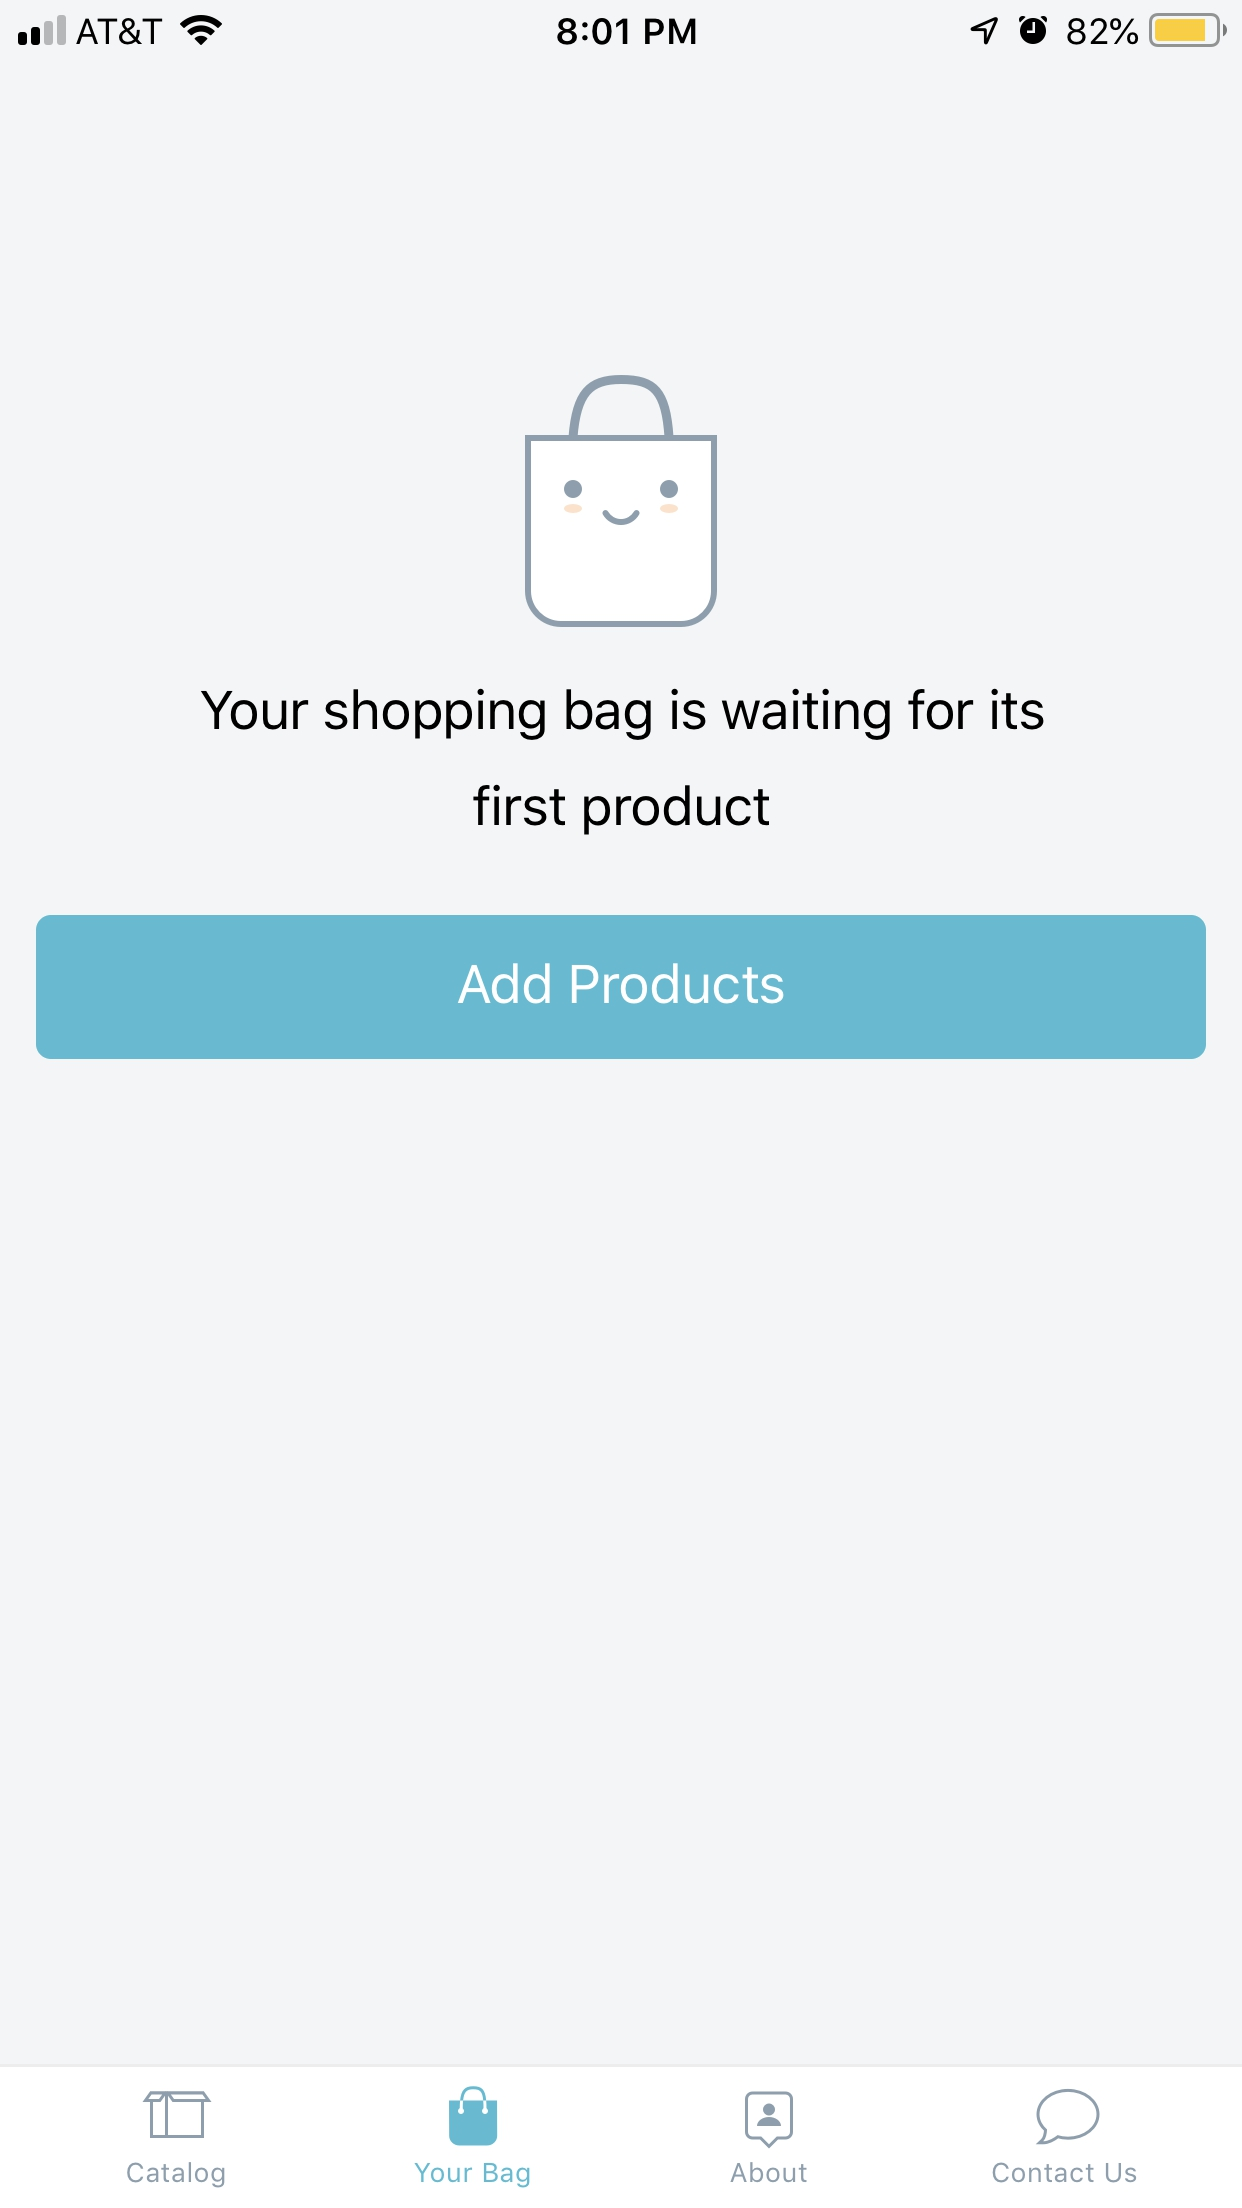Icon: (525, 375, 719, 629), (1036, 2090, 1101, 2146), (449, 2087, 497, 2147), (745, 2091, 795, 2149)
Image: (143, 2091, 212, 2138)
Text: (202, 688, 1045, 837), (992, 2161, 1137, 2184), (416, 2163, 531, 2188), (127, 2161, 226, 2188), (729, 2161, 808, 2184)
TextButton: (36, 914, 1206, 1060)
UpperTaskBar: (2, 2, 1242, 49)
